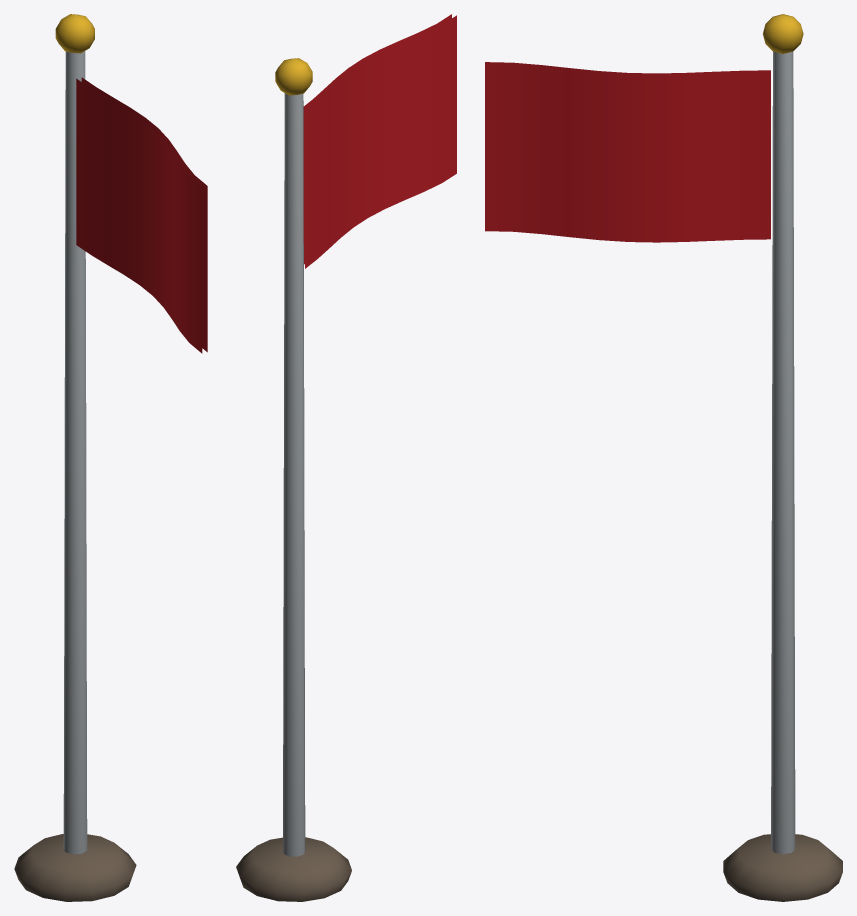
Rendered from fe-flag-vn.glb.
3 views of the same model, side by side, from view 1: azimuth 30°, elevation 25°; view 2: azimuth 150°, elevation 25°; view 3: azimuth 270°, elevation 25° (orthographic). The views are drawn at different scales.
Parts seen in each view (by area): view 1: fe-flag-vn; view 2: fe-flag-vn; view 3: fe-flag-vn.
Boxes of the visible parts, bbox=[...] form: fe-flag-vn: bbox=[14, 14, 207, 901]; fe-flag-vn: bbox=[236, 14, 456, 901]; fe-flag-vn: bbox=[485, 14, 842, 901].
Bounding box in the file's own units: 0.3 × 2.33 × 0.8762.
